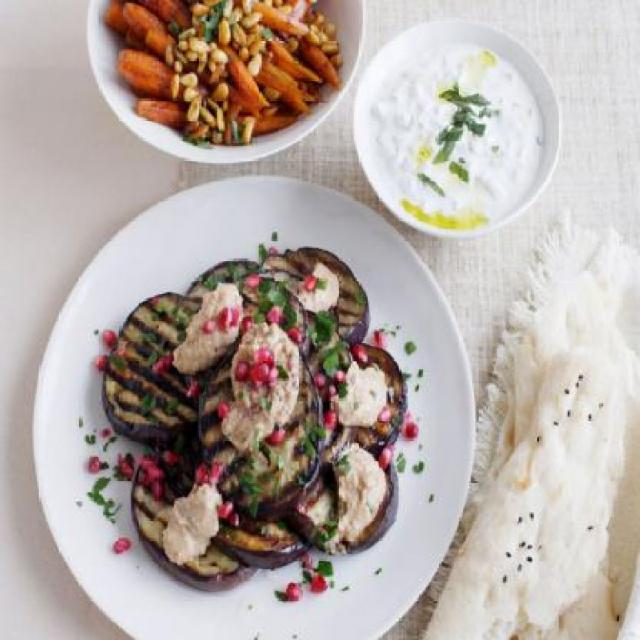eggplant: (82, 236, 413, 607)
hummus: (175, 283, 297, 451), (331, 360, 389, 548), (160, 478, 228, 565), (298, 272, 338, 314)
